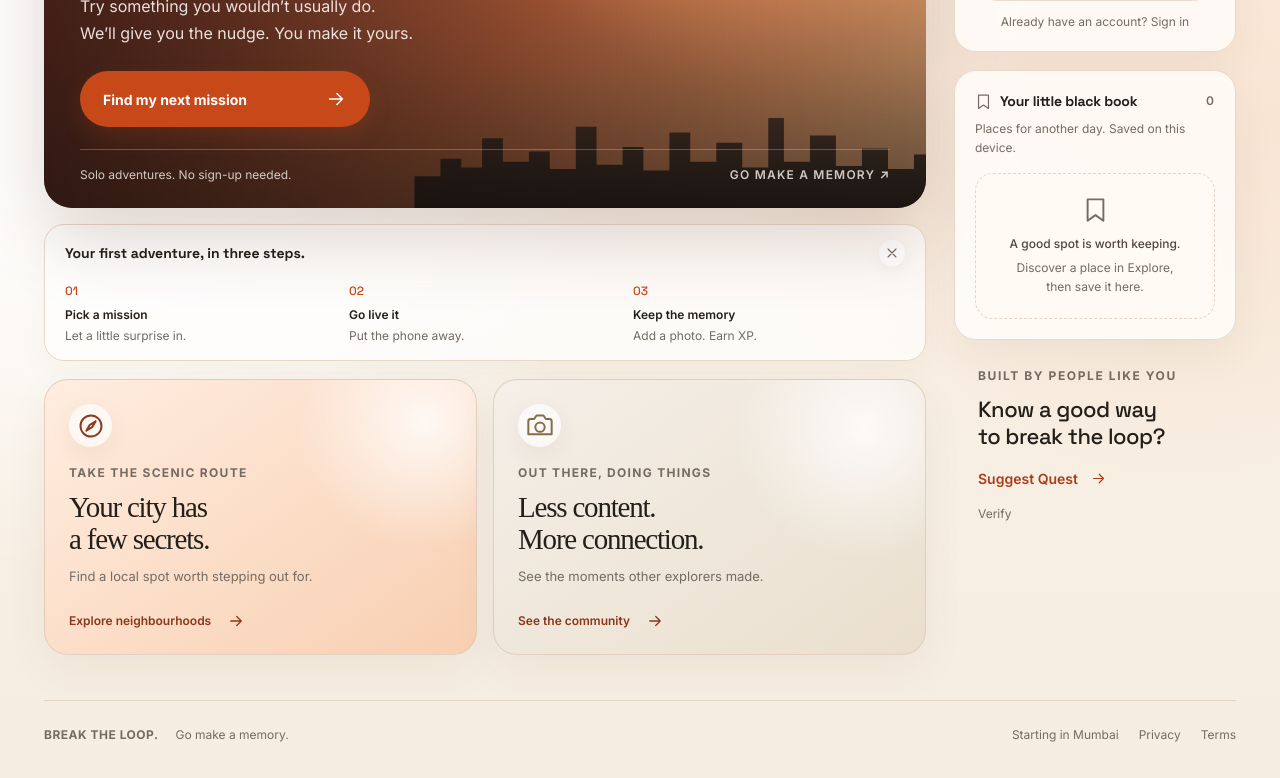
Test: suggest a quest › surfaces the 5-pending-submission cap error and keeps the modal open
(page scrolled)
Click the button "Suggest Quest" at (1042, 479), box [978, 464, 1107, 493]
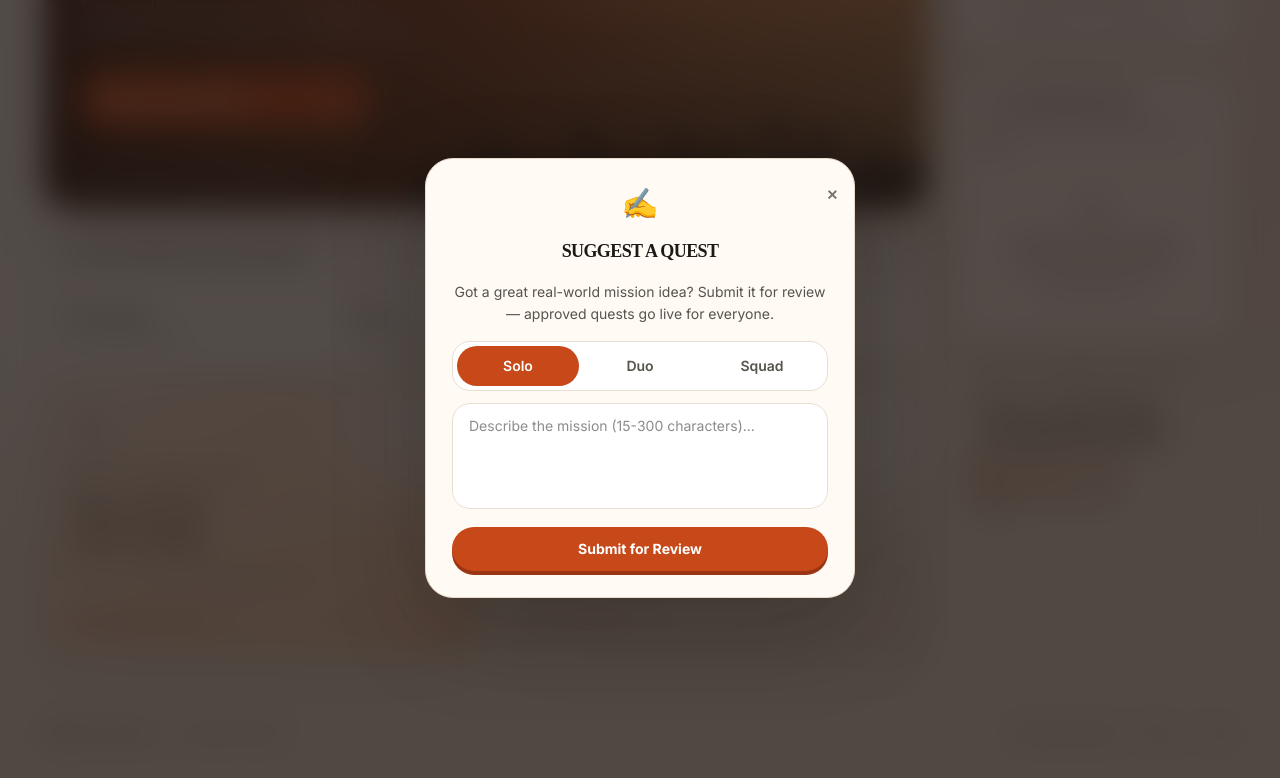
Type "Order the strangest thing on a street food menu and rate it out of ten." into the text box with placeholder "Describe the mission (15-300 characters)..." at (640, 456), box [452, 403, 828, 509]
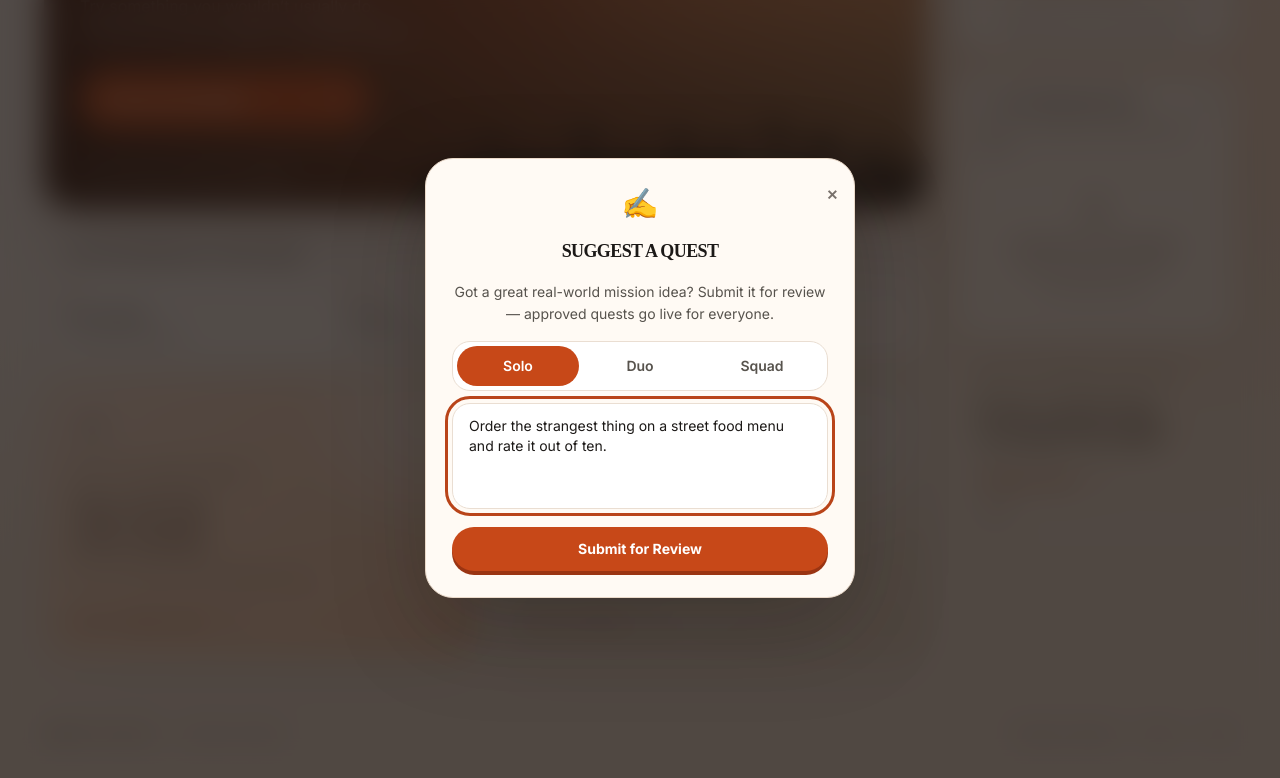
Click the button "Submit for Review" at (640, 549), box [452, 527, 828, 571]
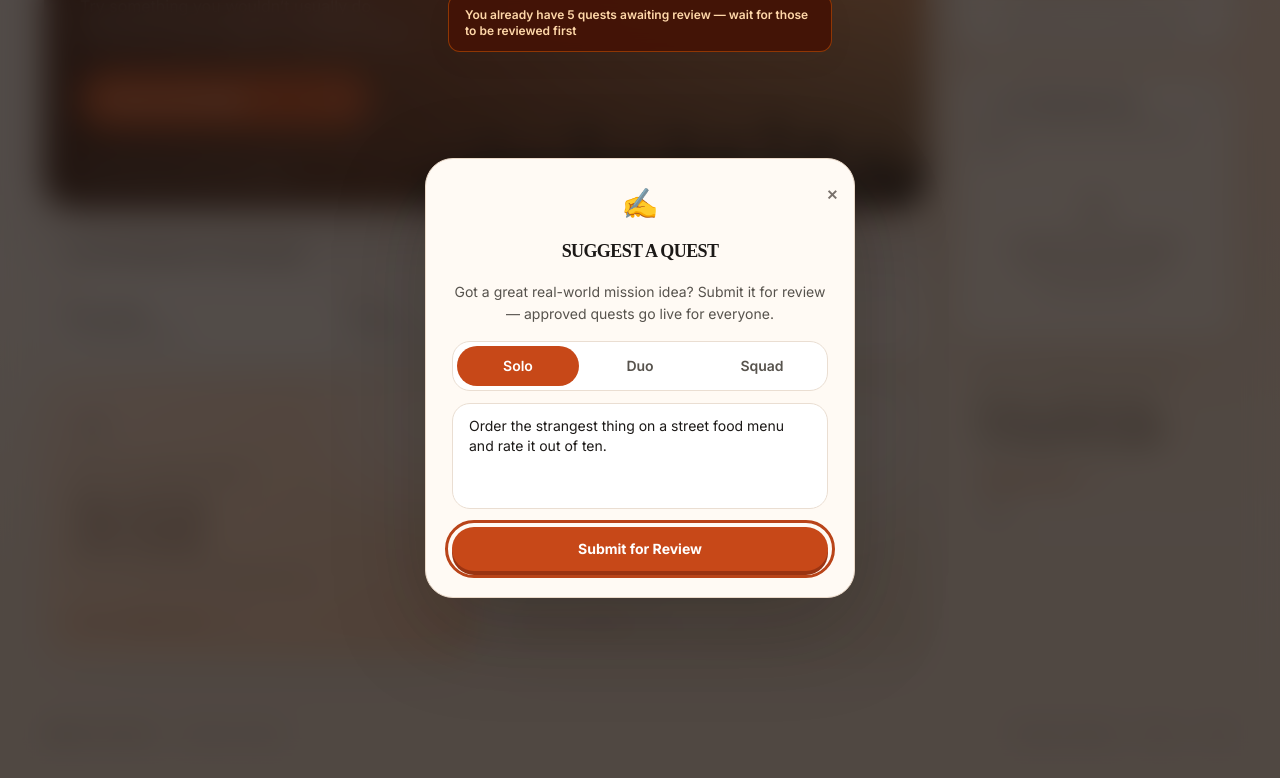
Check: the heading "SUGGEST A QUEST" is shown, box [562, 241, 718, 261]
Check: the text "already have 5 quests awaiting review" is shown, box [465, 7, 808, 38]
